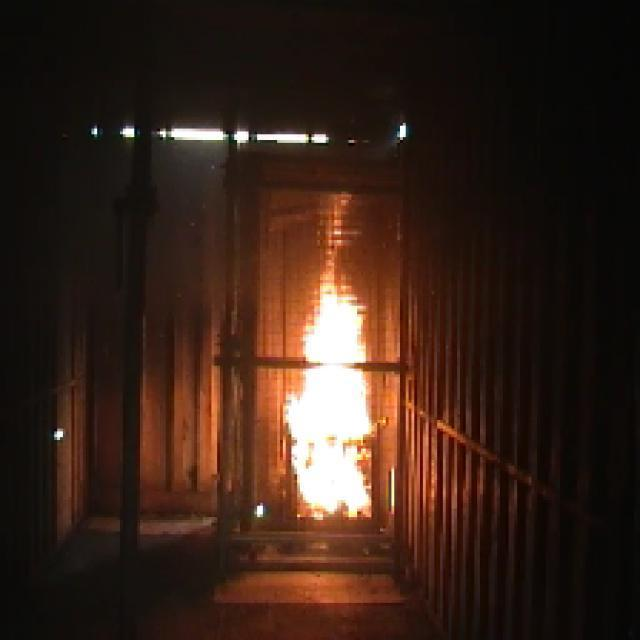Fire: (267, 260, 383, 496)
